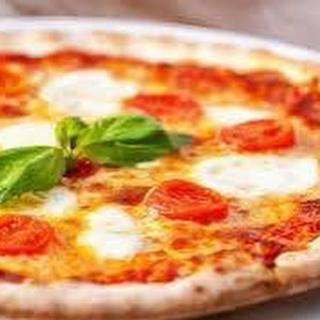Basil: (82, 117, 192, 162), (0, 148, 62, 202), (59, 113, 88, 154)
Cheese: (207, 159, 309, 191), (53, 74, 115, 109), (90, 212, 134, 256), (0, 124, 55, 151)
Pizza: (0, 17, 320, 320)
Tomatoes: (146, 182, 228, 221), (0, 215, 56, 256), (225, 117, 293, 147), (131, 95, 199, 120)
